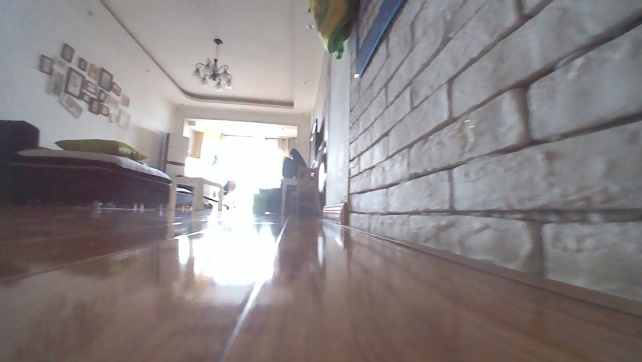sofa: (0, 113, 194, 210)
